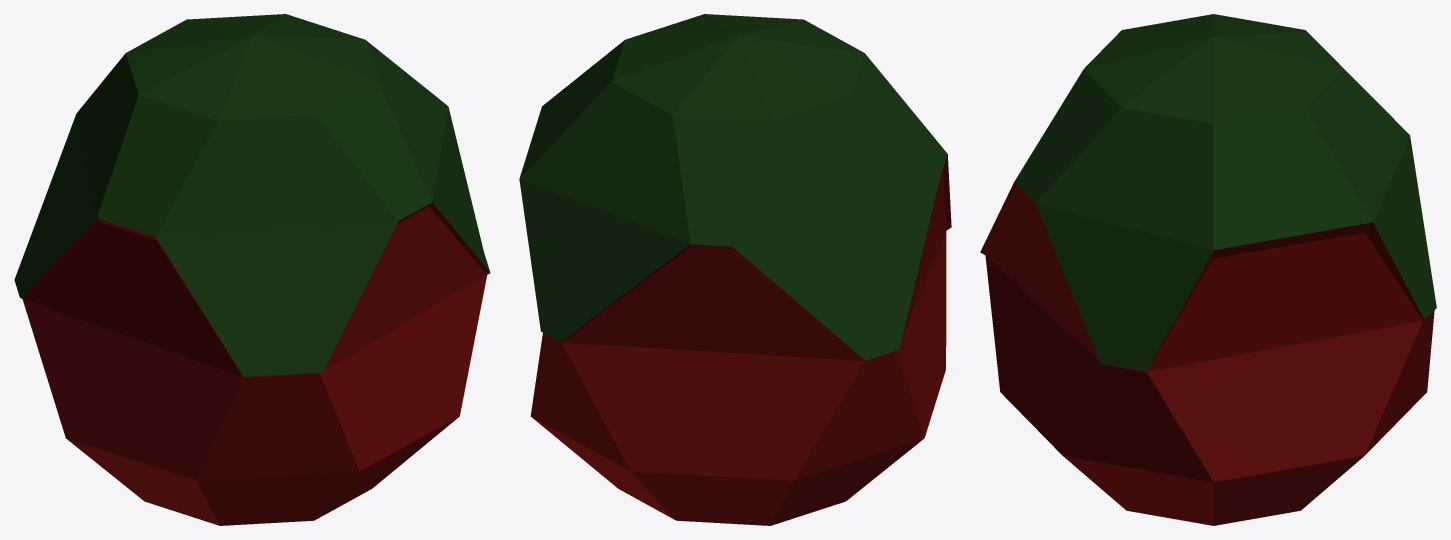
The model's file is tomato.obj.
The picture shows the model from 3 angles, left to right: view 1: azimuth 30°, elevation 25°; view 2: azimuth 150°, elevation 25°; view 3: azimuth 270°, elevation 25°; orthographic projection.
Visible parts, largest first — view 1: Sphere; view 2: Sphere; view 3: Sphere.
Part boxes in pixels (bbox=[...]): Sphere: bbox=[14, 14, 490, 525]; Sphere: bbox=[519, 14, 951, 525]; Sphere: bbox=[980, 14, 1436, 525].
Size of the model in its own units: 0.4039 by 0.4593 by 0.4075.
